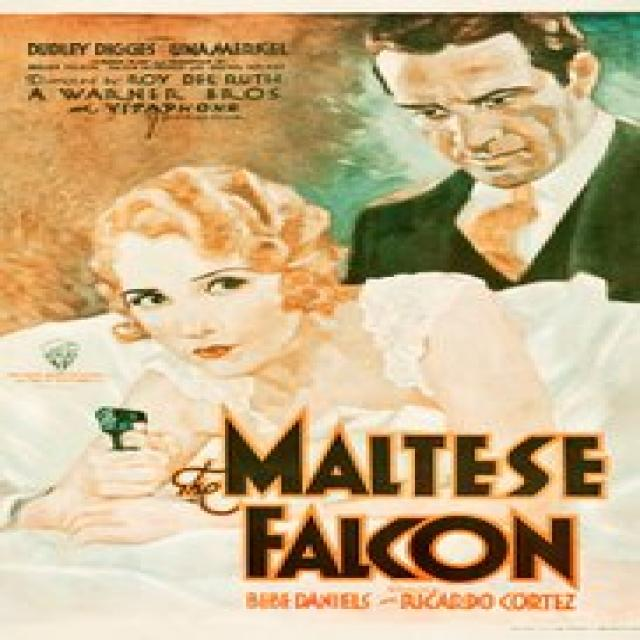movie-judul: (155, 400, 619, 595)
picture: (59, 19, 640, 524)
